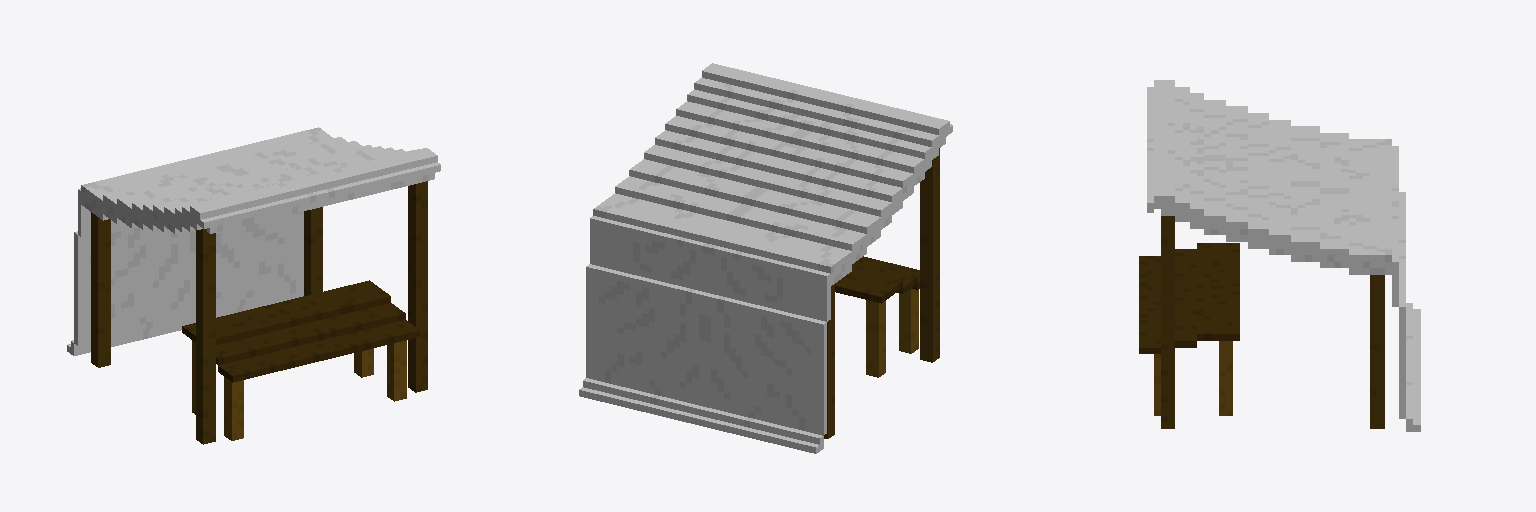
3 views of the same model, side by side, from view 1: azimuth 30°, elevation 25°; view 2: azimuth 150°, elevation 25°; view 3: azimuth 270°, elevation 25° (orthographic).
Visible parts, largest first — view 1: object 1; view 2: object 1; view 3: object 1.
Boxes of the visible parts, x1,y1,x2,y2 form: object 1: [67, 127, 440, 444]; object 1: [579, 63, 952, 453]; object 1: [1139, 80, 1420, 431].
Bounding box in the file's own units: 3.8 × 3.6 × 3.9.
1 materials, 1 textured.